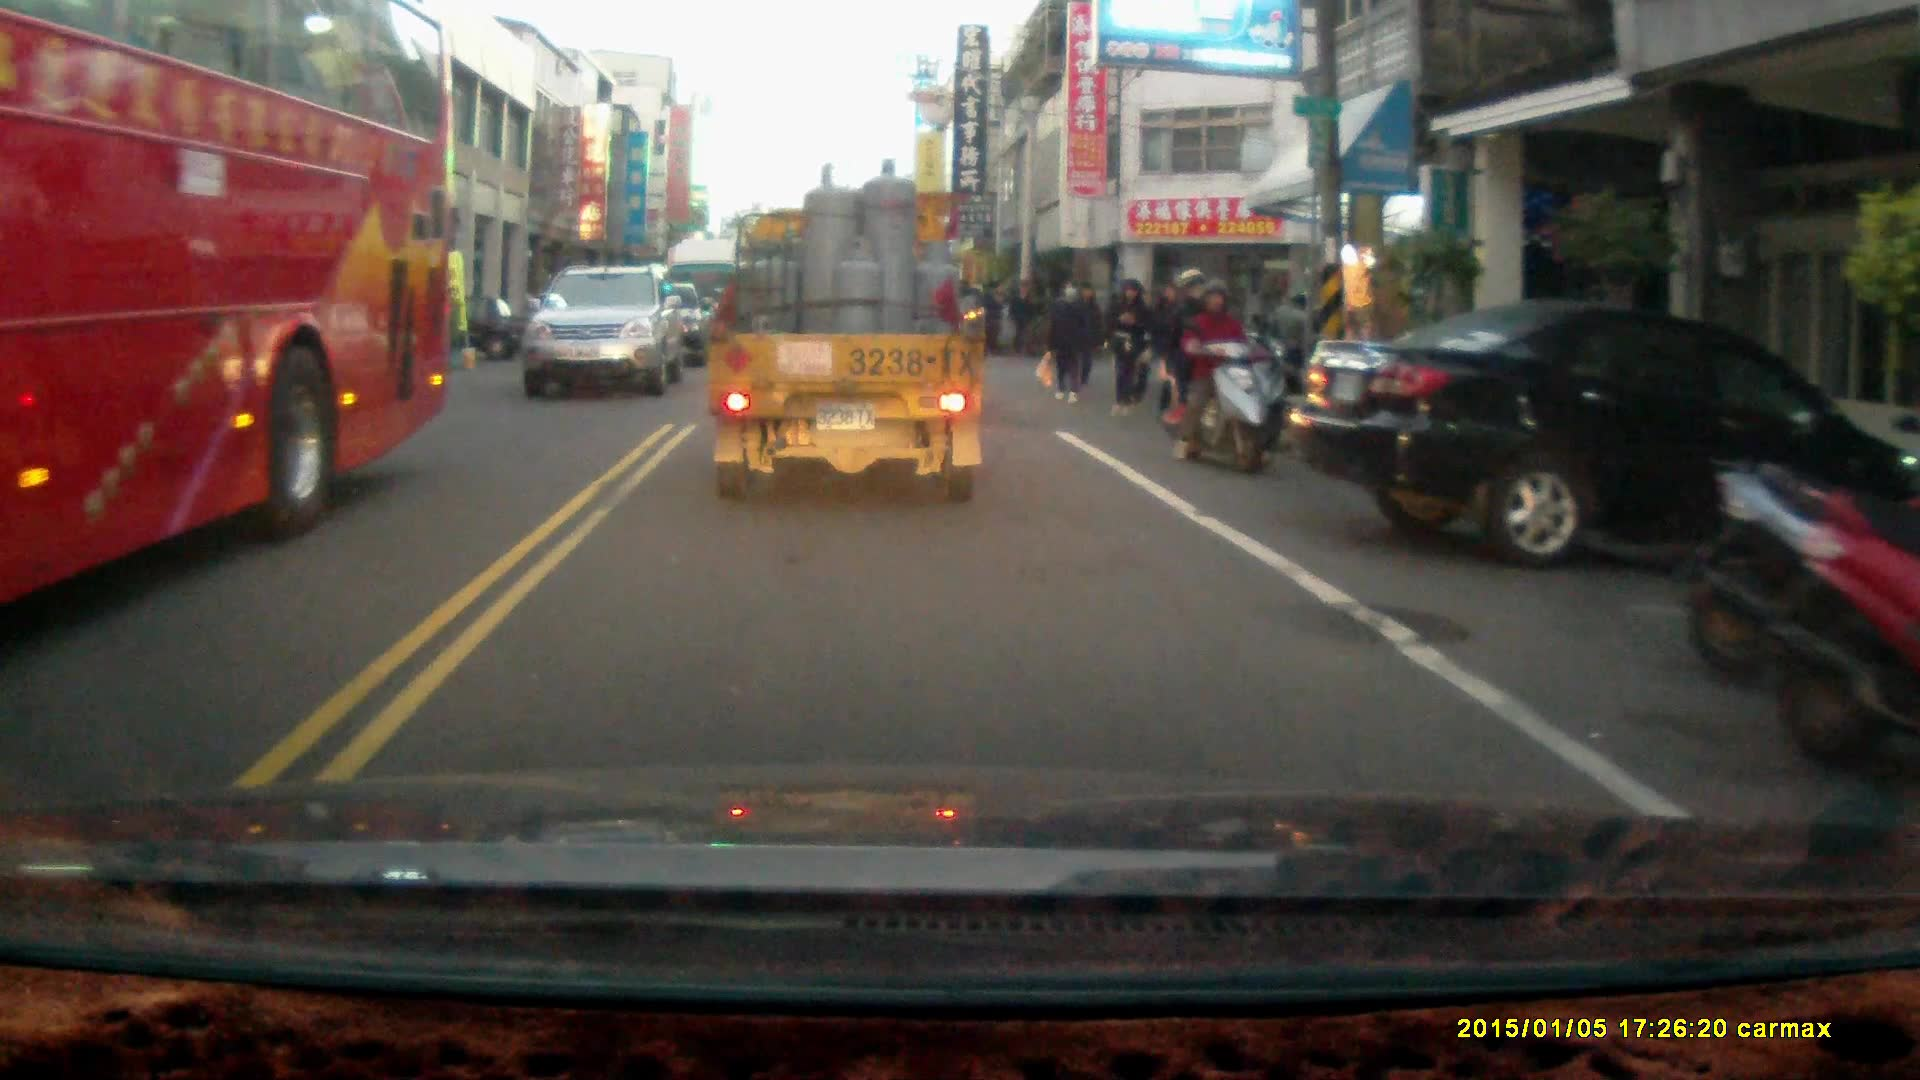pedestrian: (1150, 278, 1199, 416), (1110, 274, 1151, 415), (1043, 276, 1087, 404), (1006, 274, 1036, 358), (978, 276, 1006, 358)
rider: (1158, 265, 1262, 469)
vehicle: (1, 7, 456, 608), (1298, 302, 1920, 569), (709, 157, 992, 504), (518, 266, 682, 406)
